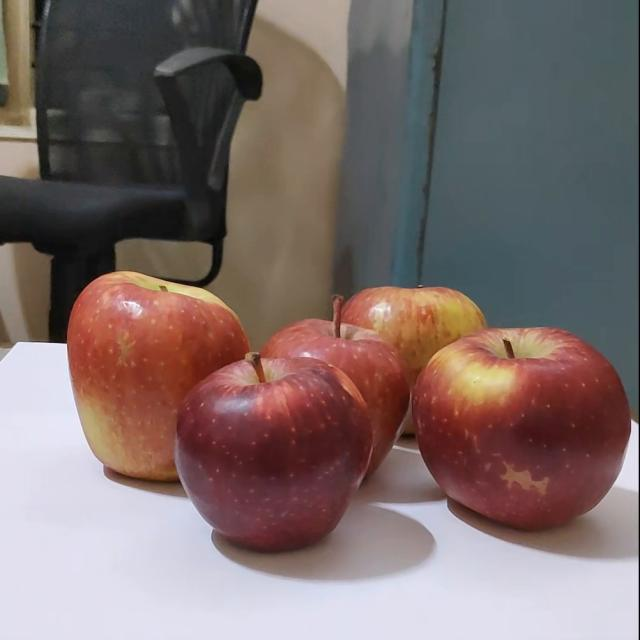apple: (409, 324, 640, 536), (64, 254, 259, 488), (168, 346, 379, 556), (254, 290, 414, 488), (336, 278, 496, 439)
